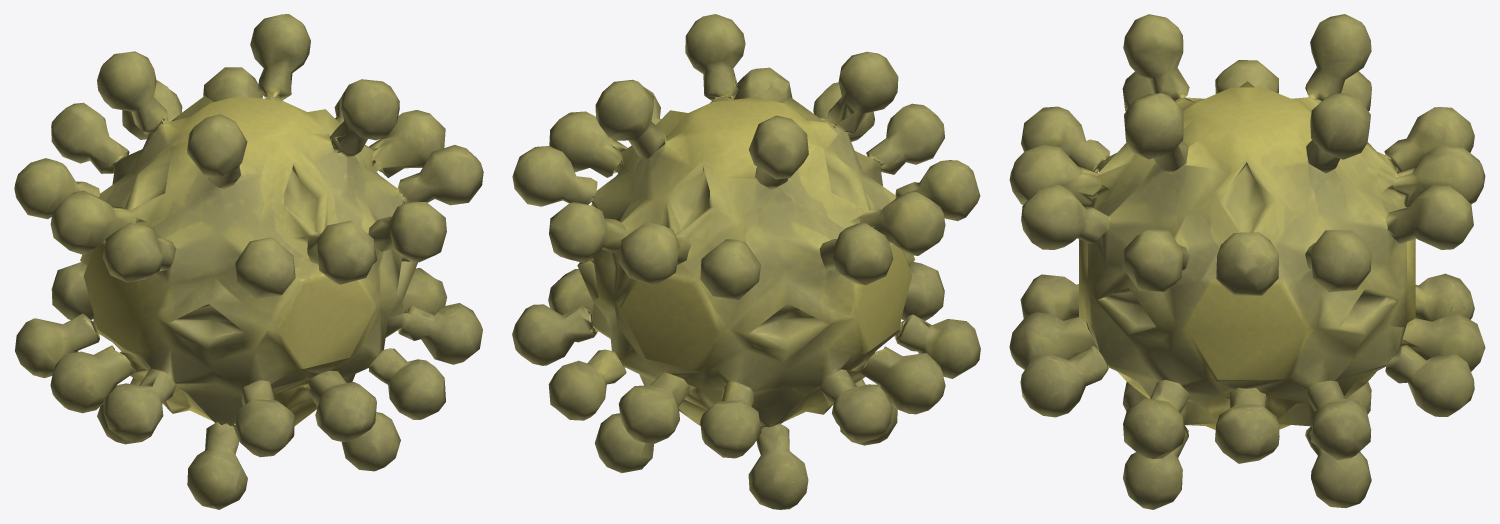
File: Prop_Glucose.glb
The picture shows the model from 3 angles, left to right: view 1: azimuth 30°, elevation 25°; view 2: azimuth 150°, elevation 25°; view 3: azimuth 270°, elevation 25°; orthographic projection. The views are drawn at different scales.
Size of the model in its own units: 1.89 by 1.81 by 1.9.
Materials: 1 (1 with a texture image).
